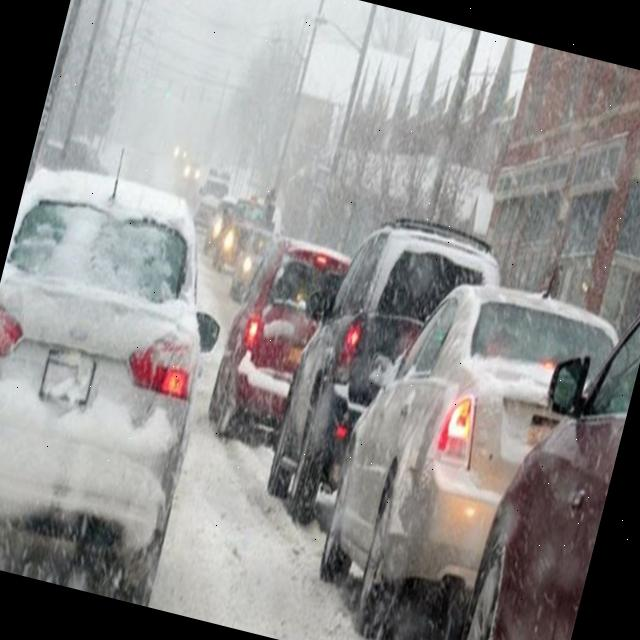car: (310, 258, 629, 640), (0, 160, 242, 601), (259, 196, 521, 550), (202, 224, 352, 458), (215, 188, 268, 278), (228, 224, 282, 305), (192, 167, 234, 230), (204, 196, 232, 253), (182, 152, 206, 184)
